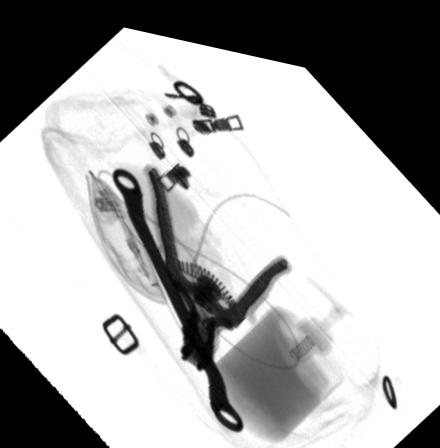Pliers: (146, 163, 290, 363)
Wrench: (113, 163, 247, 425)
